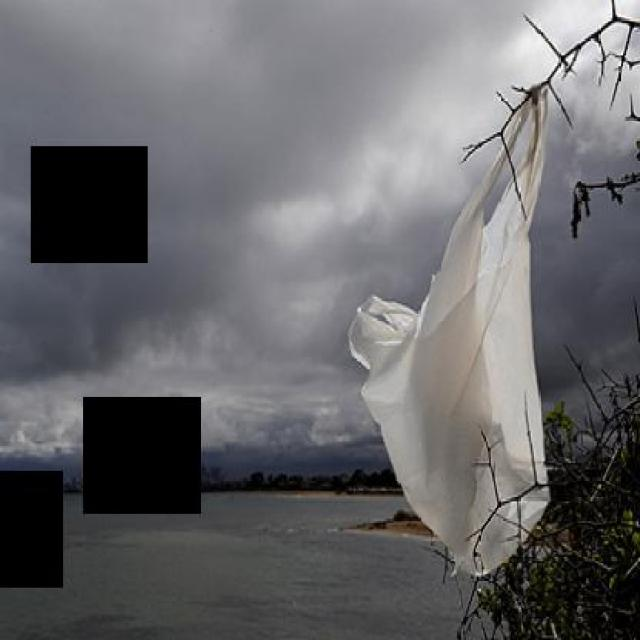plastic bag: (346, 77, 552, 575)
